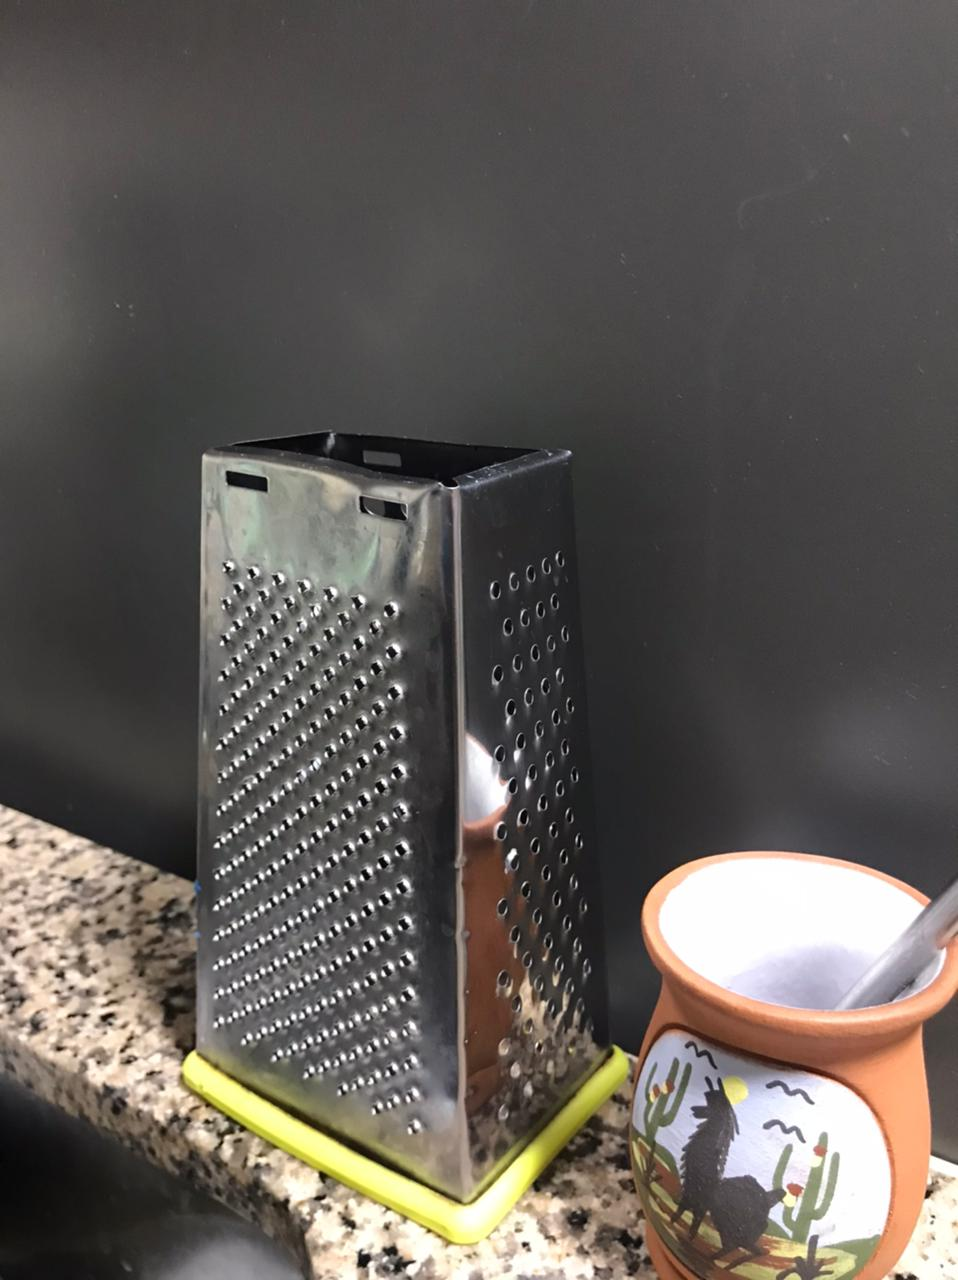mate: (605, 807, 958, 1280)
